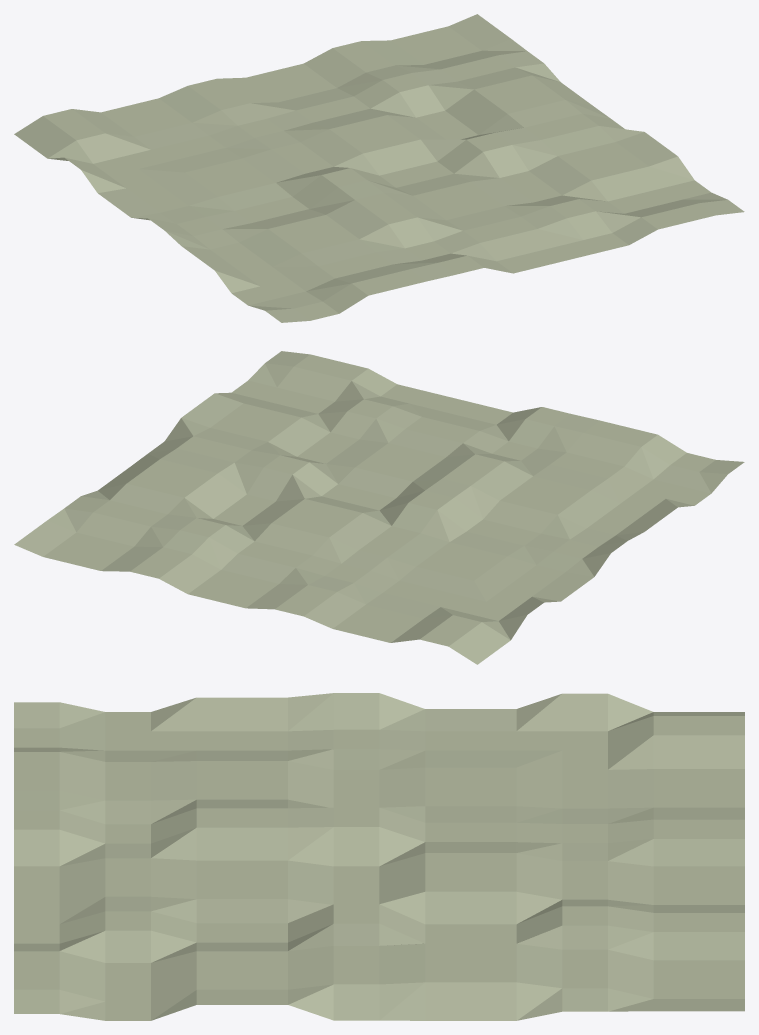
3 renders of one model, top to bottom at view 1: azimuth 30°, elevation 25°; view 2: azimuth 150°, elevation 25°; view 3: azimuth 270°, elevation 25°, orthographic. The views are drawn at different scales.
Size of the model in its own units: 32 by 0.9714 by 32.
